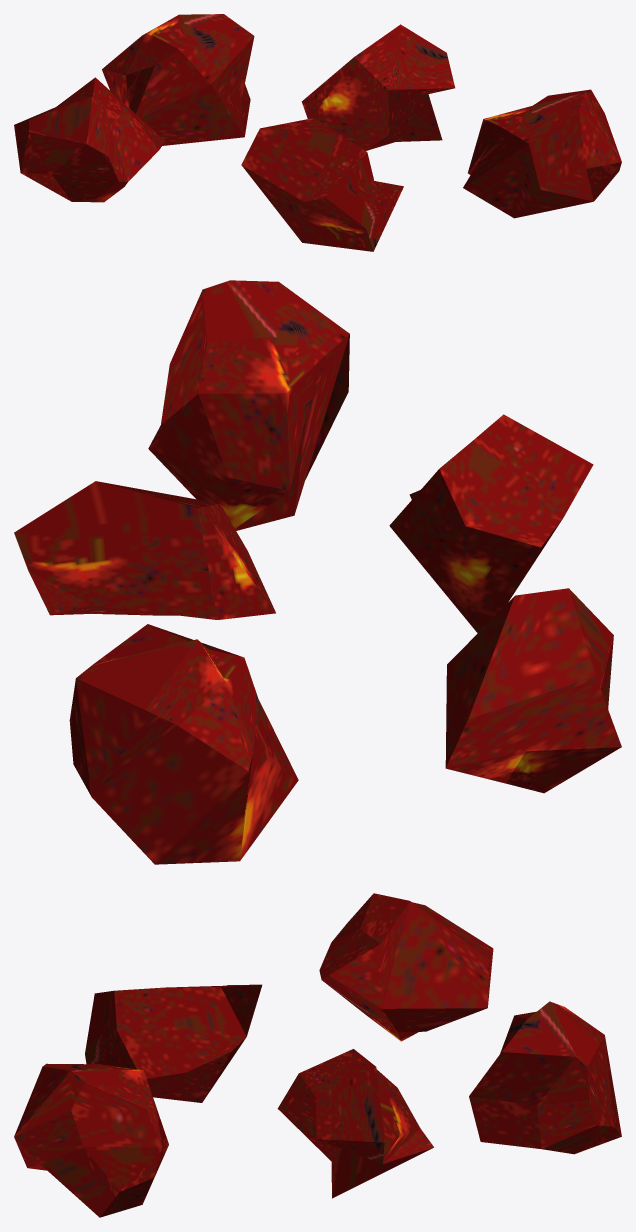
File: bodyparts.glb
3 views of the same model, one above another, from view 1: azimuth 30°, elevation 25°; view 2: azimuth 150°, elevation 25°; view 3: azimuth 270°, elevation 25° (orthographic). The views are drawn at different scales.
Visible parts, largest first — view 1: Cube.002, Cube.004, Cube, Cube.003, Cube.001; view 2: Cube.002, Cube.004, Cube.001, Cube.003, Cube; view 3: Cube.001, Cube.004, Cube.002, Cube, Cube.003.
Part boxes in pixels (x1,y1,x2,y2): Cube.002: (102, 14, 254, 145); Cube.004: (463, 89, 621, 218); Cube: (241, 118, 403, 251); Cube.003: (301, 24, 455, 150); Cube.001: (14, 77, 165, 202); Cube.002: (69, 624, 298, 864); Cube.004: (148, 280, 349, 530); Cube.001: (445, 588, 621, 793); Cube.003: (14, 481, 275, 619); Cube: (389, 414, 593, 633); Cube.001: (319, 893, 493, 1041); Cube.004: (14, 1063, 168, 1217); Cube.002: (469, 1001, 621, 1154); Cube: (85, 984, 262, 1102); Cube.003: (277, 1049, 433, 1198).
Bounding box in the file's own units: 12.33 × 4.32 × 13.17.
Materials: 5 (5 with a texture image).
